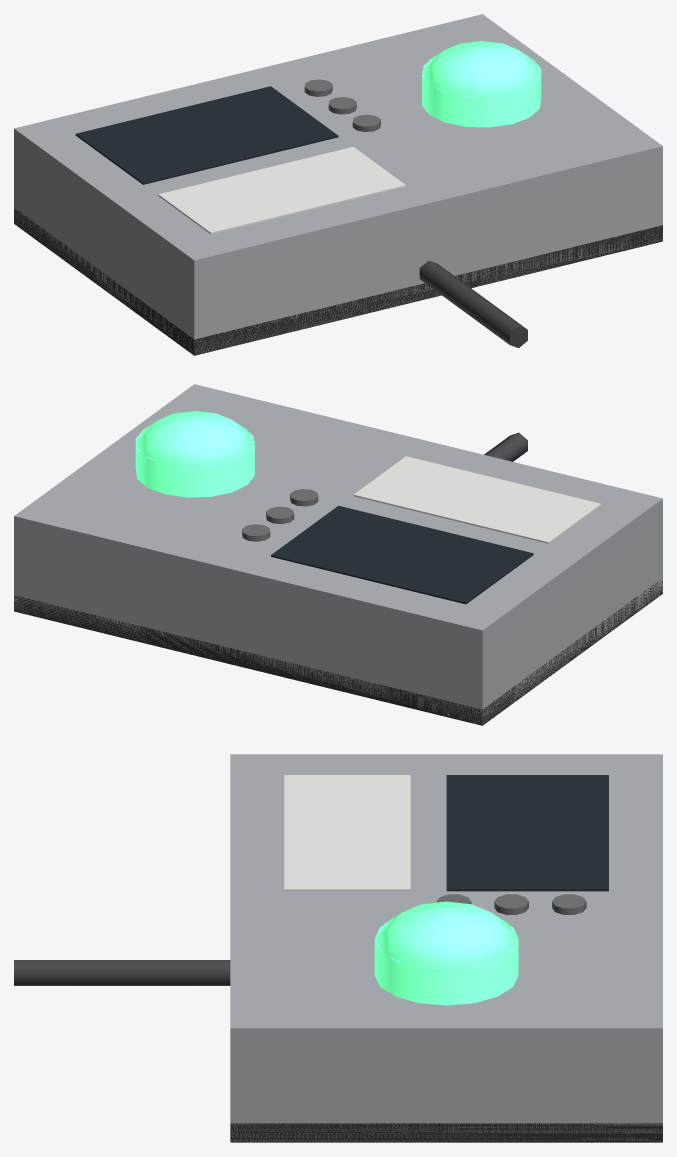
File: test-rig.glb
3 renders of one model, top to bottom at view 1: azimuth 30°, elevation 25°; view 2: azimuth 150°, elevation 25°; view 3: azimuth 270°, elevation 25°, orthographic. The views are drawn at different scales.
Visible parts, largest first — view 1: base, button; view 2: base, button; view 3: base, button, led1, led2.
Boxes of the visible parts, <box> form: base: <box>14,14,662,355</box>; button: <box>421,41,541,127</box>; base: <box>14,384,662,725</box>; button: <box>135,411,255,497</box>; base: <box>14,754,662,1142</box>; button: <box>374,901,518,1005</box>; led1: <box>552,894,586,914</box>; led2: <box>494,894,528,914</box>.
Bounding box in the file's own units: 0.18 × 0.053 × 0.18.
